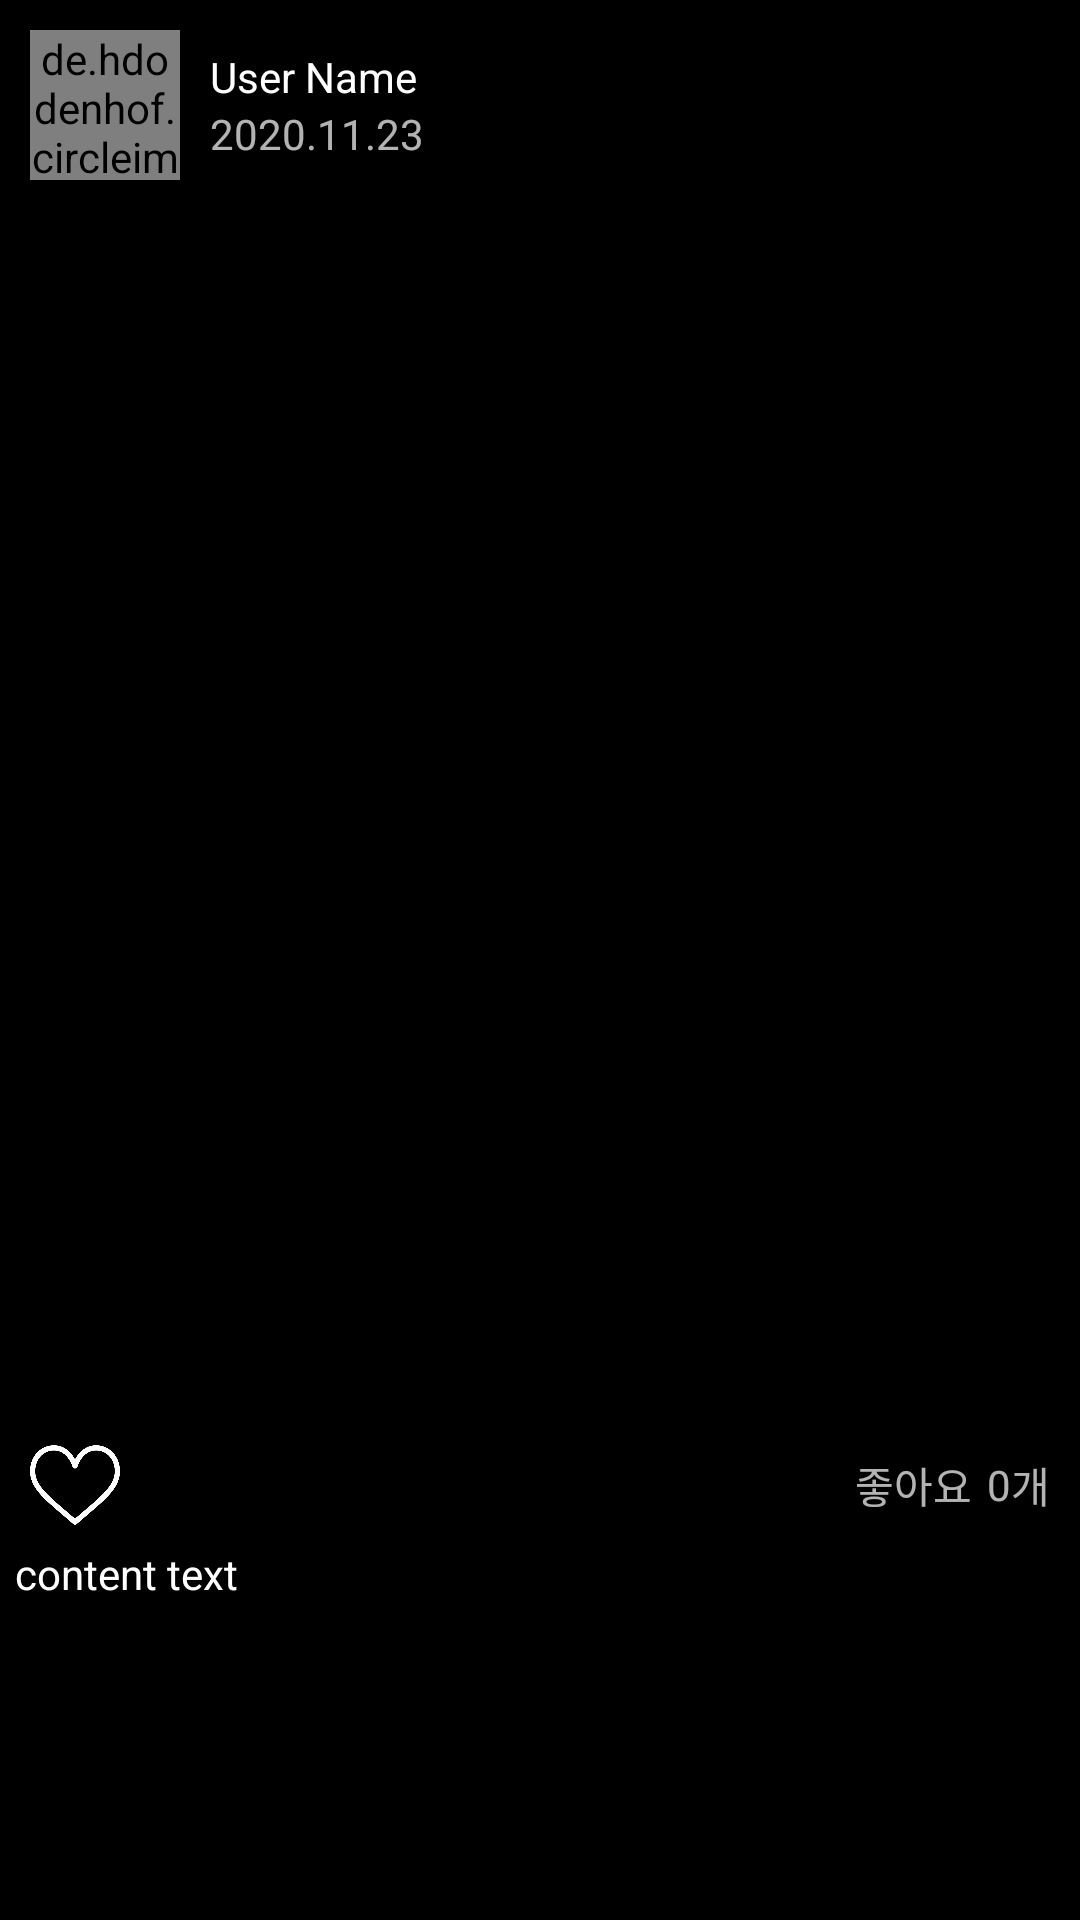

Icons on this 1080 × 1920 Android screen, each with the point to tap as [x,y]:
like on off: [75,1485]
